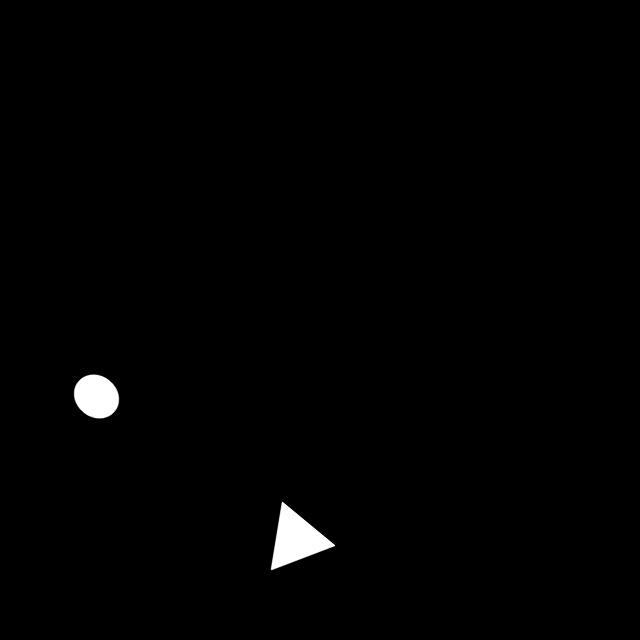Circle: (62, 364, 129, 431)
Triangle: (256, 486, 345, 590)
